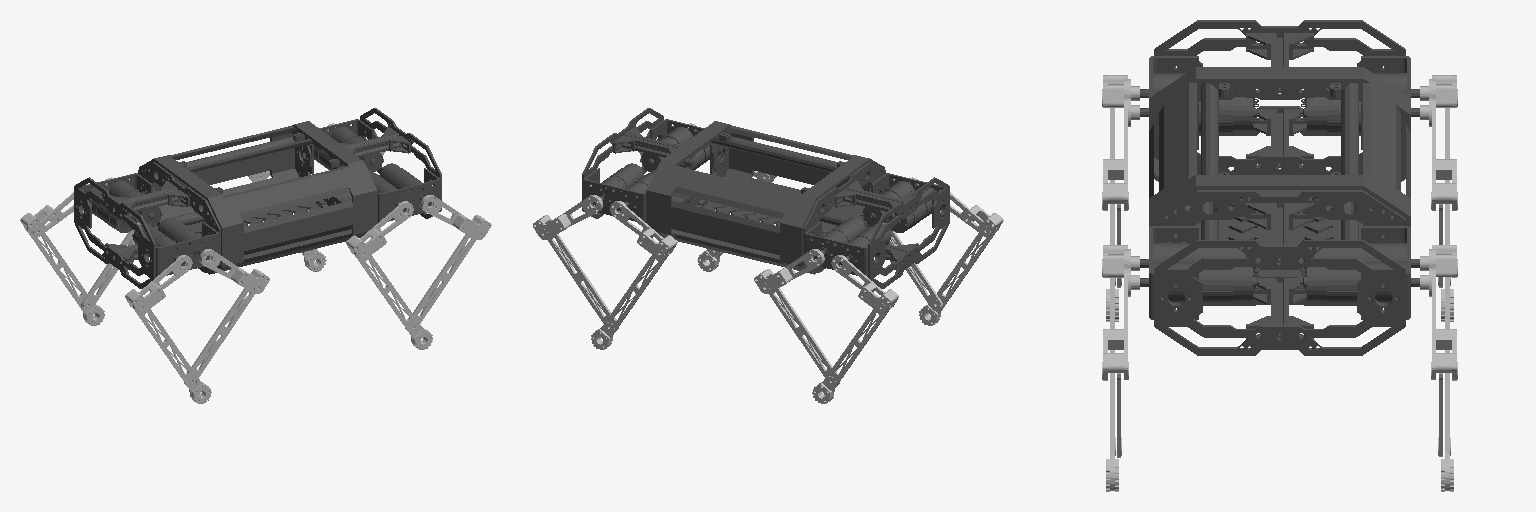
The robot description file, URDF, robot "Spot":
<?xml version="1.0" encoding="utf-8"?>
<!-- This URDF was automatically created by SolidWorks to URDF Exporter! Originally created by [author] ([email redacted]) 
     Commit Version: 1.6.0-4-g7f85cfe  Build Version: 1.6.7995.38578
     For more information, please see http://wiki.ros.org/sw_urdf_exporter -->
<robot
  name="Spot">

  <link
    name="chasiss">
    <inertial>
      <origin
        xyz="0.00052651 -3.5116E-07 0.0033972"
        rpy="0 0 0" />
      <mass
        value="2" />
      <inertia
        ixx="0"
        ixy="0"
        ixz="0"
        iyy="0"
        iyz="0"
        izz="0" />
    </inertial>
    <visual>
      <origin
        xyz="0 0 0"
        rpy="0 0 0" />
      <geometry>
        <mesh
          filename="package://Spot/meshes/chasiss.STL" />
      </geometry>
      <material
        name="chasiss">
        <color
          rgba="0.376 0.376 0.376 1" />
      </material>
    </visual>
    <collision>
      <origin
        xyz="0 0 0"
        rpy="0 0 0" />
      <geometry>
        <mesh
          filename="package://Spot/meshes/chasiss.STL" />
      </geometry>
    </collision>
  </link>
  <link
    name="FR_upper_knee">
    <inertial>
      <origin
        xyz="0.054284 -0.0047809 -0.038682"
        rpy="0 0 0" />
      <mass
        value="0.1" />
      <inertia
        ixx="0"
        ixy="0"
        ixz="0"
        iyy="0"
        iyz="0"
        izz="0" />
    </inertial>
    <visual>
      <origin
        xyz="0 0 0"
        rpy="0 0 0" />
      <geometry>
        <mesh
          filename="package://Spot/meshes/FR_upper_knee.STL" />
      </geometry>
      <material
        name="">
        <color
          rgba="0.752941176 0.752941176 0.752941176 1" />
      </material>
    </visual>
    <collision>
      <origin
        xyz="0 0 0"
        rpy="0 0 0" />
      <geometry>
        <mesh
          filename="package://Spot/meshes/FR_upper_knee.STL" />
      </geometry>
    </collision>
  </link>
  <joint
    name="motor_fr_upper_knee_joint"
    type="revolute">
    <origin
      xyz="0.24844 -0.1735 0.007712"
      rpy="0 0 0" />
    <parent
      link="chasiss" />
    <child
      link="FR_upper_knee" />
    <axis
      xyz="0 -1 0" />
    <limit
      lower="-1.57"
      upper="1.57"
      effort="20"
      velocity="100" />
  </joint>
  <link
    name="FR_lower_knee">
    <inertial>
      <origin
        xyz="-0.065794 0.0025629 -0.07831"
        rpy="0 0 0" />
      <mass
        value="0.1" />
      <inertia
        ixx="0"
        ixy="0"
        ixz="0"
        iyy="0"
        iyz="0"
        izz="0" />
    </inertial>
    <visual>
      <origin
        xyz="0 0 0"
        rpy="0 0 0" />
      <geometry>
        <mesh
          filename="package://Spot/meshes/FR_lower_knee.STL" />
      </geometry>
      <material
        name="">
        <color
          rgba="0.752941176 0.752941176 0.752941176 1" />
      </material>
    </visual>
    <collision>
      <origin
        xyz="0 0 0"
        rpy="0 0 0" />
      <geometry>
        <mesh
          filename="package://Spot/meshes/FR_lower_knee.STL" />
      </geometry>
    </collision>
  </link>
  <joint
    name="fr_lower_knee_joint"
    type="revolute">
    <origin
      xyz="0.086649 -0.008 -0.067764"
      rpy="0 0 0" />
    <parent
      link="FR_upper_knee" />
    <child
      link="FR_lower_knee" />
    <axis
      xyz="0 -1 0" />
    <limit
      lower="-1.57"
      upper="1.57"
      effort="20"
      velocity="100" />
  </joint>
  <link
    name="FR_upper_hip">
    <inertial>
      <origin
        xyz="-0.06045 -0.0047809 -0.028086"
        rpy="0 0 0" />
      <mass
        value="0.1" />
      <inertia
        ixx="0"
        ixy="0"
        ixz="0"
        iyy="0"
        iyz="0"
        izz="0" />
    </inertial>
    <visual>
      <origin
        xyz="0 0 0"
        rpy="0 0 0" />
      <geometry>
        <mesh
          filename="package://Spot/meshes/FR_upper_hip.STL" />
      </geometry>
      <material
        name="">
        <color
          rgba="0.752941176 0.752941176 0.752941176 1" />
      </material>
    </visual>
    <collision>
      <origin
        xyz="0 0 0"
        rpy="0 0 0" />
      <geometry>
        <mesh
          filename="package://Spot/meshes/FR_upper_hip.STL" />
      </geometry>
    </collision>
  </link>
  <joint
    name="motor_fr_upper_hip_joint"
    type="revolute">
    <origin
      xyz="0.19775 -0.1735 0.0069919"
      rpy="0 0 0" />
    <parent
      link="chasiss" />
    <child
      link="FR_upper_hip" />
    <axis
      xyz="0 -1 0" />
    <limit
      lower="-1.57"
      upper="1.57"
      effort="20"
      velocity="100" />
  </joint>
  <link
    name="FR_lower_hip">
    <inertial>
      <origin
        xyz="0.079671 -0.0024606 -0.127"
        rpy="0 0 0" />
      <mass
        value="0.1" />
      <inertia
        ixx="0"
        ixy="0"
        ixz="0"
        iyy="0"
        iyz="0"
        izz="0" />
    </inertial>
    <visual>
      <origin
        xyz="0 0 0"
        rpy="0 0 0" />
      <geometry>
        <mesh
          filename="package://Spot/meshes/FR_lower_hip.STL" />
      </geometry>
      <material
        name="hip">
        <color
          rgba="0.752941176 0.752941176 0.752941176 1" />
      </material>
    </visual>
    <collision>
      <origin
        xyz="0 0 0"
        rpy="0 0 0" />
      <geometry>
        <mesh
          filename="package://Spot/meshes/FR_lower_hip.STL" />
      </geometry>
    </collision>
  </link>
  <joint
    name="fr_lower_hip_joint"
    type="revolute">
    <origin
      xyz="-0.097594 -0.01 -0.050749"
      rpy="0 0 0" />
    <parent
      link="FR_upper_hip" />
    <child
      link="FR_lower_hip" />
    <axis
      xyz="0 -1 0" />
    <limit
      lower="-1.57"
      upper="1.57"
      effort="20"
      velocity="100" />
  </joint>
  <link
    name="BR_upper_knee">
    <inertial>
      <origin
        xyz="0.054328 -0.0047809 -0.038621"
        rpy="0 0 0" />
      <mass
        value="0.1" />
      <inertia
        ixx="0"
        ixy="0"
        ixz="0"
        iyy="0"
        iyz="0"
        izz="0" />
    </inertial>
    <visual>
      <origin
        xyz="0 0 0"
        rpy="0 0 0" />
      <geometry>
        <mesh
          filename="package://Spot/meshes/BR_upper_knee.STL" />
      </geometry>
      <material
        name="">
        <color
          rgba="0.752941176 0.752941176 0.752941176 1" />
      </material>
    </visual>
    <collision>
      <origin
        xyz="0 0 0"
        rpy="0 0 0" />
      <geometry>
        <mesh
          filename="package://Spot/meshes/BR_upper_knee.STL" />
      </geometry>
    </collision>
  </link>
  <joint
    name="motor_br_upper_knee_joint"
    type="revolute">
    <origin
      xyz="-0.19756 -0.1735 0.007712"
      rpy="0 0 0" />
    <parent
      link="chasiss" />
    <child
      link="BR_upper_knee" />
    <axis
      xyz="0 -1 0" />
    <limit
      lower="-1.57"
      upper="1.57"
      effort="20"
      velocity="100" />
  </joint>
  <link
    name="BR_lower_knee">
    <inertial>
      <origin
        xyz="-0.065776 0.0025629 -0.078325"
        rpy="0 0 0" />
      <mass
        value="0.1" />
      <inertia
        ixx="0"
        ixy="0"
        ixz="0"
        iyy="0"
        iyz="0"
        izz="0" />
    </inertial>
    <visual>
      <origin
        xyz="0 0 0"
        rpy="0 0 0" />
      <geometry>
        <mesh
          filename="package://Spot/meshes/BR_lower_knee.STL" />
      </geometry>
      <material
        name="">
        <color
          rgba="0.752941176 0.752941176 0.752941176 1" />
      </material>
    </visual>
    <collision>
      <origin
        xyz="0 0 0"
        rpy="0 0 0" />
      <geometry>
        <mesh
          filename="package://Spot/meshes/BR_lower_knee.STL" />
      </geometry>
    </collision>
  </link>
  <joint
    name="br_lower_knee_joint"
    type="revolute">
    <origin
      xyz="0.086726 -0.008 -0.067666"
      rpy="0 0 0" />
    <parent
      link="BR_upper_knee" />
    <child
      link="BR_lower_knee" />
    <axis
      xyz="0 -1 0" />
    <limit
      lower="-1.57"
      upper="1.57"
      effort="20"
      velocity="100" />
  </joint>
  <link
    name="BR_upper_hip">
    <inertial>
      <origin
        xyz="-0.060388 -0.0047809 -0.02822"
        rpy="0 0 0" />
      <mass
        value="0.1" />
      <inertia
        ixx="0"
        ixy="0"
        ixz="0"
        iyy="0"
        iyz="0"
        izz="0" />
    </inertial>
    <visual>
      <origin
        xyz="0 0 0"
        rpy="0 0 0" />
      <geometry>
        <mesh
          filename="package://Spot/meshes/BR_upper_hip.STL" />
      </geometry>
      <material
        name="">
        <color
          rgba="0.752941176 0.752941176 0.752941176 1" />
      </material>
    </visual>
    <collision>
      <origin
        xyz="0 0 0"
        rpy="0 0 0" />
      <geometry>
        <mesh
          filename="package://Spot/meshes/BR_upper_hip.STL" />
      </geometry>
    </collision>
  </link>
  <joint
    name="motor_br_upper_hip_joint"
    type="revolute">
    <origin
      xyz="-0.24756 -0.1735 0.007712"
      rpy="0 0 0" />
    <parent
      link="chasiss" />
    <child
      link="BR_upper_hip" />
    <axis
      xyz="0 -1 0" />
    <limit
      lower="-1.57"
      upper="1.57"
      effort="20"
      velocity="100" />
  </joint>
  <link
    name="BR_lower_hip">
    <inertial>
      <origin
        xyz="0.07915 -0.0024606 -0.12733"
        rpy="0 0 0" />
      <mass
        value="0.1" />
      <inertia
        ixx="0"
        ixy="0"
        ixz="0"
        iyy="0"
        iyz="0"
        izz="0" />
    </inertial>
    <visual>
      <origin
        xyz="0 0 0"
        rpy="0 0 0" />
      <geometry>
        <mesh
          filename="package://Spot/meshes/BR_lower_hip.STL" />
      </geometry>
      <material
        name="hip">
        <color
          rgba="0.752941176 0.752941176 0.752941176 1" />
      </material>
    </visual>
    <collision>
      <origin
        xyz="0 0 0"
        rpy="0 0 0" />
      <geometry>
        <mesh
          filename="package://Spot/meshes/BR_lower_hip.STL" />
      </geometry>
    </collision>
  </link>
  <joint
    name="br_lower_hip_joint"
    type="revolute">
    <origin
      xyz="-0.097481 -0.01 -0.050966"
      rpy="0 0 0" />
    <parent
      link="BR_upper_hip" />
    <child
      link="BR_lower_hip" />
    <axis
      xyz="0 -1 0" />
    <limit
      lower="-1.57"
      upper="1.57"
      effort="20"
      velocity="100" />
  </joint>
  <link
    name="FL_upper_knee">
    <inertial>
      <origin
        xyz="0.054328 0.0047809 -0.038621"
        rpy="0 0 0" />
      <mass
        value="0.1" />
      <inertia
        ixx="0"
        ixy="0"
        ixz="0"
        iyy="0"
        iyz="0"
        izz="0" />
    </inertial>
    <visual>
      <origin
        xyz="0 0 0"
        rpy="0 0 0" />
      <geometry>
        <mesh
          filename="package://Spot/meshes/FL_upper_knee.STL" />
      </geometry>
      <material
        name="">
        <color
          rgba="0.752941176 0.752941176 0.752941176 1" />
      </material>
    </visual>
    <collision>
      <origin
        xyz="0 0 0"
        rpy="0 0 0" />
      <geometry>
        <mesh
          filename="package://Spot/meshes/FL_upper_knee.STL" />
      </geometry>
    </collision>
  </link>
  <joint
    name="motor_fl_upper_knee_joint"
    type="revolute">
    <origin
      xyz="0.24844 0.1735 0.007712"
      rpy="0 0 0" />
    <parent
      link="chasiss" />
    <child
      link="FL_upper_knee" />
    <axis
      xyz="0 -1 0" />
    <limit
      lower="-1.57"
      upper="1.57"
      effort="20"
      velocity="100" />
  </joint>
  <link
    name="FL_lower_knee">
    <inertial>
      <origin
        xyz="-0.065776 -0.0025629 -0.078325"
        rpy="0 0 0" />
      <mass
        value="0.1" />
      <inertia
        ixx="0"
        ixy="0"
        ixz="0"
        iyy="0"
        iyz="0"
        izz="0" />
    </inertial>
    <visual>
      <origin
        xyz="0 0 0"
        rpy="0 0 0" />
      <geometry>
        <mesh
          filename="package://Spot/meshes/FL_lower_knee.STL" />
      </geometry>
      <material
        name="">
        <color
          rgba="0.752941176 0.752941176 0.752941176 1" />
      </material>
    </visual>
    <collision>
      <origin
        xyz="0 0 0"
        rpy="0 0 0" />
      <geometry>
        <mesh
          filename="package://Spot/meshes/FL_lower_knee.STL" />
      </geometry>
    </collision>
  </link>
  <joint
    name="fl_lower_knee_joint"
    type="revolute">
    <origin
      xyz="0.086726 0.008 -0.067666"
      rpy="0 0 0" />
    <parent
      link="FL_upper_knee" />
    <child
      link="FL_lower_knee" />
    <axis
      xyz="0 -1 0" />
    <limit
      lower="-1.57"
      upper="1.57"
      effort="20"
      velocity="100" />
  </joint>
  <link
    name="FL_upper_hip">
    <inertial>
      <origin
        xyz="-0.060388 0.0047809 -0.02822"
        rpy="0 0 0" />
      <mass
        value="0.1" />
      <inertia
        ixx="0"
        ixy="0"
        ixz="0"
        iyy="0"
        iyz="0"
        izz="0" />
    </inertial>
    <visual>
      <origin
        xyz="0 0 0"
        rpy="0 0 0" />
      <geometry>
        <mesh
          filename="package://Spot/meshes/FL_upper_hip.STL" />
      </geometry>
      <material
        name="">
        <color
          rgba="0.752941176 0.752941176 0.752941176 1" />
      </material>
    </visual>
    <collision>
      <origin
        xyz="0 0 0"
        rpy="0 0 0" />
      <geometry>
        <mesh
          filename="package://Spot/meshes/FL_upper_hip.STL" />
      </geometry>
    </collision>
  </link>
  <joint
    name="motor_fl_upper_hip_joint"
    type="revolute">
    <origin
      xyz="0.19844 0.1735 0.007712"
      rpy="0 0 0" />
    <parent
      link="chasiss" />
    <child
      link="FL_upper_hip" />
    <axis
      xyz="0 -1 0" />
    <limit
      lower="-1.57"
      upper="1.57"
      effort="20"
      velocity="100" />
  </joint>
  <link
    name="FL_lower_hip">
    <inertial>
      <origin
        xyz="0.07915 0.0025394 -0.12733"
        rpy="0 0 0" />
      <mass
        value="0.1" />
      <inertia
        ixx="0"
        ixy="0"
        ixz="0"
        iyy="0"
        iyz="0"
        izz="0" />
    </inertial>
    <visual>
      <origin
        xyz="0 0 0"
        rpy="0 0 0" />
      <geometry>
        <mesh
          filename="package://Spot/meshes/FL_lower_hip.STL" />
      </geometry>
      <material
        name="hip">
        <color
          rgba="0.752941176 0.752941176 0.752941176 1" />
      </material>
    </visual>
    <collision>
      <origin
        xyz="0 0 0"
        rpy="0 0 0" />
      <geometry>
        <mesh
          filename="package://Spot/meshes/FL_lower_hip.STL" />
      </geometry>
    </collision>
  </link>
  <joint
    name="fl_lower_hip_joint"
    type="revolute">
    <origin
      xyz="-0.097481 0.01 -0.050966"
      rpy="0 0 0" />
    <parent
      link="FL_upper_hip" />
    <child
      link="FL_lower_hip" />
    <axis
      xyz="0 -1 0" />
    <limit
      lower="-1.57"
      upper="1.57"
      effort="20"
      velocity="100" />
  </joint>
  <link
    name="BL_upper_knee">
    <inertial>
      <origin
        xyz="0.054328 0.0047809 -0.038621"
        rpy="0 0 0" />
      <mass
        value="0.1" />
      <inertia
        ixx="0"
        ixy="0"
        ixz="0"
        iyy="0"
        iyz="0"
        izz="0" />
    </inertial>
    <visual>
      <origin
        xyz="0 0 0"
        rpy="0 0 0" />
      <geometry>
        <mesh
          filename="package://Spot/meshes/BL_upper_knee.STL" />
      </geometry>
      <material
        name="">
        <color
          rgba="0.752941176 0.752941176 0.752941176 1" />
      </material>
    </visual>
    <collision>
      <origin
        xyz="0 0 0"
        rpy="0 0 0" />
      <geometry>
        <mesh
          filename="package://Spot/meshes/BL_upper_knee.STL" />
      </geometry>
    </collision>
  </link>
  <joint
    name="motor_bl_upper_knee_joint"
    type="revolute">
    <origin
      xyz="-0.19756 0.1735 0.007712"
      rpy="0 0 0" />
    <parent
      link="chasiss" />
    <child
      link="BL_upper_knee" />
    <axis
      xyz="0 -1 0" />
    <limit
      lower="-1.57"
      upper="1.57"
      effort="20"
      velocity="100" />
  </joint>
  <link
    name="BL_lower_knee">
    <inertial>
      <origin
        xyz="-0.065776 -0.0025629 -0.078325"
        rpy="0 0 0" />
      <mass
        value="0.1" />
      <inertia
        ixx="0"
        ixy="0"
        ixz="0"
        iyy="0"
        iyz="0"
        izz="0" />
    </inertial>
    <visual>
      <origin
        xyz="0 0 0"
        rpy="0 0 0" />
      <geometry>
        <mesh
          filename="package://Spot/meshes/BL_lower_knee.STL" />
      </geometry>
      <material
        name="">
        <color
          rgba="0.752941176 0.752941176 0.752941176 1" />
      </material>
    </visual>
    <collision>
      <origin
        xyz="0 0 0"
        rpy="0 0 0" />
      <geometry>
        <mesh
          filename="package://Spot/meshes/BL_lower_knee.STL" />
      </geometry>
    </collision>
  </link>
  <joint
    name="bl_lower_knee_joint"
    type="revolute">
    <origin
      xyz="0.086726 0.008 -0.067666"
      rpy="0 0 0" />
    <parent
      link="BL_upper_knee" />
    <child
      link="BL_lower_knee" />
    <axis
      xyz="0 -1 0" />
    <limit
      lower="-1.57"
      upper="1.57"
      effort="20"
      velocity="100" />
  </joint>
  <link
    name="BL_upper_hip">
    <inertial>
      <origin
        xyz="-0.060388 0.0047809 -0.02822"
        rpy="0 0 0" />
      <mass
        value="0.1" />
      <inertia
        ixx="0"
        ixy="0"
        ixz="0"
        iyy="0"
        iyz="0"
        izz="0" />
    </inertial>
    <visual>
      <origin
        xyz="0 0 0"
        rpy="0 0 0" />
      <geometry>
        <mesh
          filename="package://Spot/meshes/BL_upper_hip.STL" />
      </geometry>
      <material
        name="">
        <color
          rgba="0.752941176 0.752941176 0.752941176 1" />
      </material>
    </visual>
    <collision>
      <origin
        xyz="0 0 0"
        rpy="0 0 0" />
      <geometry>
        <mesh
          filename="package://Spot/meshes/BL_upper_hip.STL" />
      </geometry>
    </collision>
  </link>
  <joint
    name="motor_bl_upper_hip_joint"
    type="revolute">
    <origin
      xyz="-0.24756 0.1735 0.007712"
      rpy="0 0 0" />
    <parent
      link="chasiss" />
    <child
      link="BL_upper_hip" />
    <axis
      xyz="0 -1 0" />
    <limit
      lower="-1.57"
      upper="1.57"
      effort="20"
      velocity="100" />
  </joint>
  <link
    name="BL_lower_hip">
    <inertial>
      <origin
        xyz="0.07915 0.0025394 -0.12733"
        rpy="0 0 0" />
      <mass
        value="0.1" />
      <inertia
        ixx="0"
        ixy="0"
        ixz="0"
        iyy="0"
        iyz="0"
        izz="0" />
    </inertial>
    <visual>
      <origin
        xyz="0 0 0"
        rpy="0 0 0" />
      <geometry>
        <mesh
          filename="package://Spot/meshes/BL_lower_hip.STL" />
      </geometry>
      <material
        name="hip">
        <color
          rgba="0.752941176 0.752941176 0.752941176 1" />
      </material>
    </visual>
    <collision>
      <origin
        xyz="0 0 0"
        rpy="0 0 0" />
      <geometry>
        <mesh
          filename="package://Spot/meshes/BL_lower_hip.STL" />
      </geometry>
    </collision>
  </link>
  <joint
    name="bl_lower_hip_joint"
    type="revolute">
    <origin
      xyz="-0.097481 0.01 -0.050966"
      rpy="0 0 0" />
    <parent
      link="BL_upper_hip" />
    <child
      link="BL_lower_hip" />
    <axis
      xyz="0 -1 0" />
    <limit
      lower="-1.57"
      upper="1.57"
      effort="20"
      velocity="100" />
  </joint>
</robot>

--- Render facts (derived) ---
3 views of the same robot in one strip: view 1: azimuth 30°, elevation 25°; view 2: azimuth 150°, elevation 25°; view 3: azimuth 270°, elevation 25° (orthographic).
Robot: Spot — 17 links, 16 joints (16 revolute); root link chasiss; default pose: every joint at zero.
Links seen in each view (by area): view 1: chasiss, BR_lower_hip, FR_lower_hip, FR_upper_hip, BL_lower_hip, BR_upper_hip, BR_lower_knee, FR_lower_knee, FR_upper_knee, BR_upper_knee, BL_upper_hip, BL_lower_knee; view 2: chasiss, BL_lower_hip, FL_lower_hip, FL_upper_hip, BL_upper_hip, BR_lower_hip, BL_lower_knee, FL_lower_knee, FL_upper_knee, BL_upper_knee, BR_upper_hip, BR_lower_knee; view 3: chasiss, BR_upper_knee, BL_upper_knee, FR_upper_knee, FL_upper_knee, FL_lower_hip, FR_lower_hip, FR_upper_hip, BR_upper_hip, BL_upper_hip, FL_upper_hip, BL_lower_hip (+1 smaller).
Boxes of the visible links, x1,y1,x2,y2 form: chasiss: (74, 108, 441, 288); BR_lower_hip: (133, 305, 211, 403); FR_lower_hip: (354, 252, 432, 349); FR_upper_hip: (346, 201, 413, 259); BL_lower_hip: (27, 227, 104, 325); BR_upper_hip: (125, 255, 192, 313); BR_lower_knee: (184, 288, 255, 385); FR_lower_knee: (405, 233, 480, 329); FR_upper_knee: (421, 195, 491, 239); BR_upper_knee: (199, 249, 269, 293); BL_upper_hip: (20, 184, 88, 236); BL_lower_knee: (81, 222, 140, 311); chasiss: (582, 108, 949, 288); BL_lower_hip: (812, 305, 890, 403); FL_lower_hip: (591, 252, 668, 349); FL_upper_hip: (610, 201, 677, 259); BL_upper_hip: (831, 255, 898, 313); BR_lower_hip: (919, 227, 996, 325); BL_lower_knee: (768, 288, 839, 385); FL_lower_knee: (543, 233, 618, 329); FL_upper_knee: (533, 195, 602, 239); BL_upper_knee: (754, 249, 824, 293); BR_upper_hip: (935, 184, 1003, 236); BR_lower_knee: (883, 222, 942, 311); chasiss: (1140, 20, 1419, 355); BR_upper_knee: (1102, 98, 1139, 210); BL_upper_knee: (1420, 98, 1457, 210); FR_upper_knee: (1102, 268, 1139, 380); FL_upper_knee: (1420, 268, 1457, 380); FL_lower_hip: (1441, 277, 1453, 491); FR_lower_hip: (1106, 278, 1118, 491); FR_upper_hip: (1102, 245, 1139, 277); BR_upper_hip: (1102, 75, 1139, 107); BL_upper_hip: (1420, 75, 1457, 107); FL_upper_hip: (1420, 245, 1457, 277); BL_lower_hip: (1441, 108, 1453, 321).
Size in the robot's own frame: 0.7225 by 0.395 by 0.341 metres.
Meshes: 17 distinct files referenced, 17 mesh visuals loaded (17 binary STL).